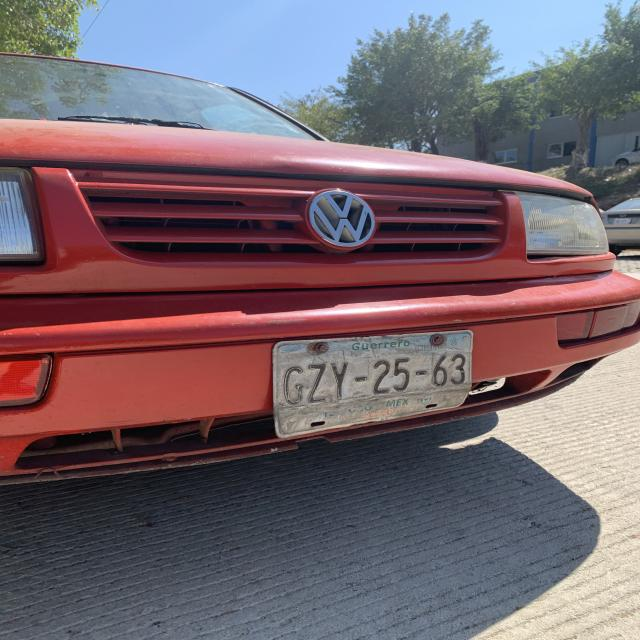placa: (268, 350, 480, 406)
